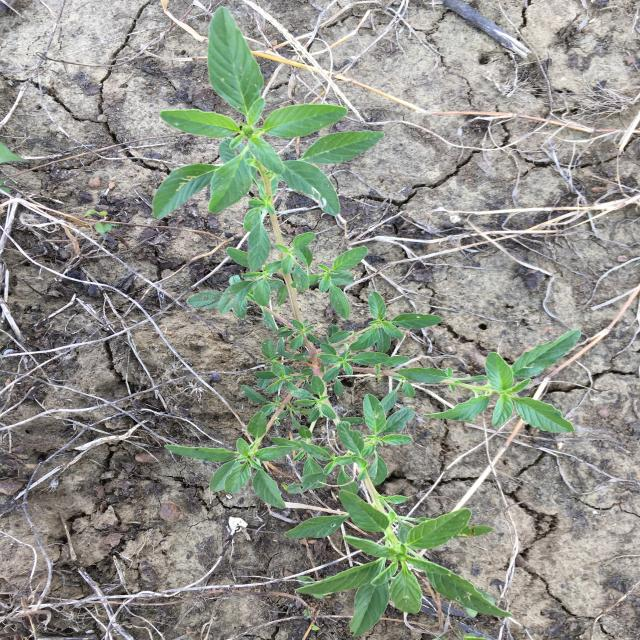MorningGlory: (82, 210, 120, 240)
Waterhemp: (152, 6, 581, 637)
